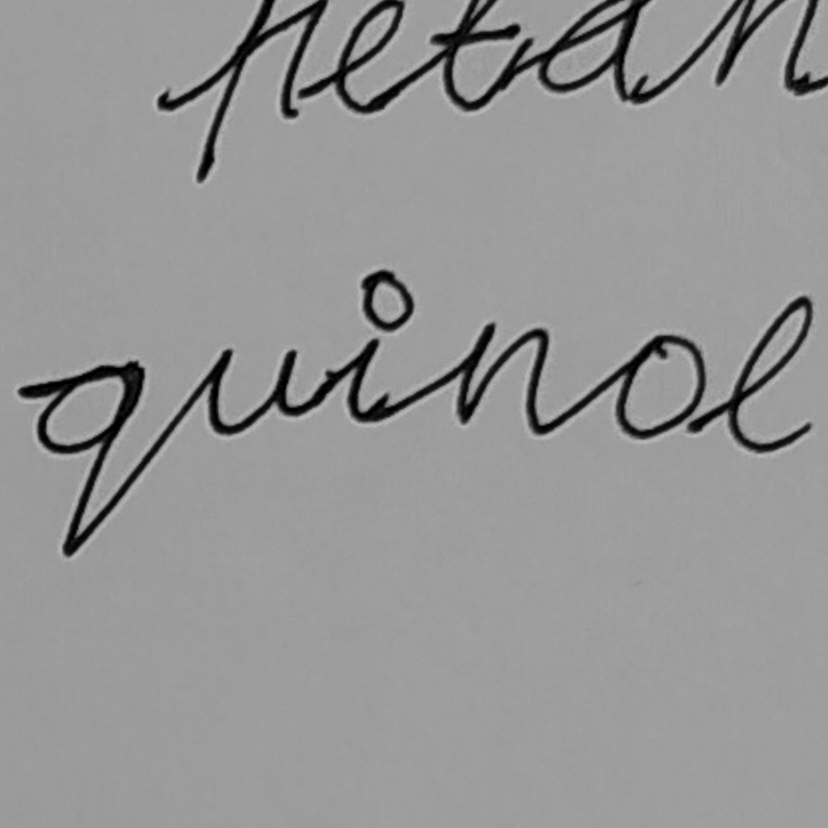i: (341, 267, 418, 428)
l: (723, 292, 818, 456)
n: (449, 317, 555, 443)
o: (610, 328, 708, 443)
q: (28, 358, 150, 561)
u: (203, 345, 302, 437)
